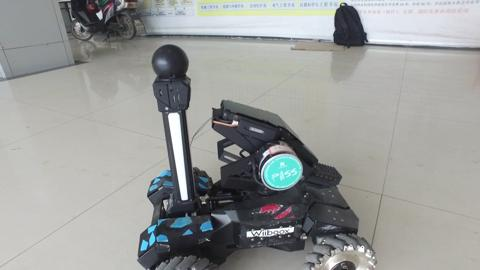chariot: (123, 55, 378, 270)
